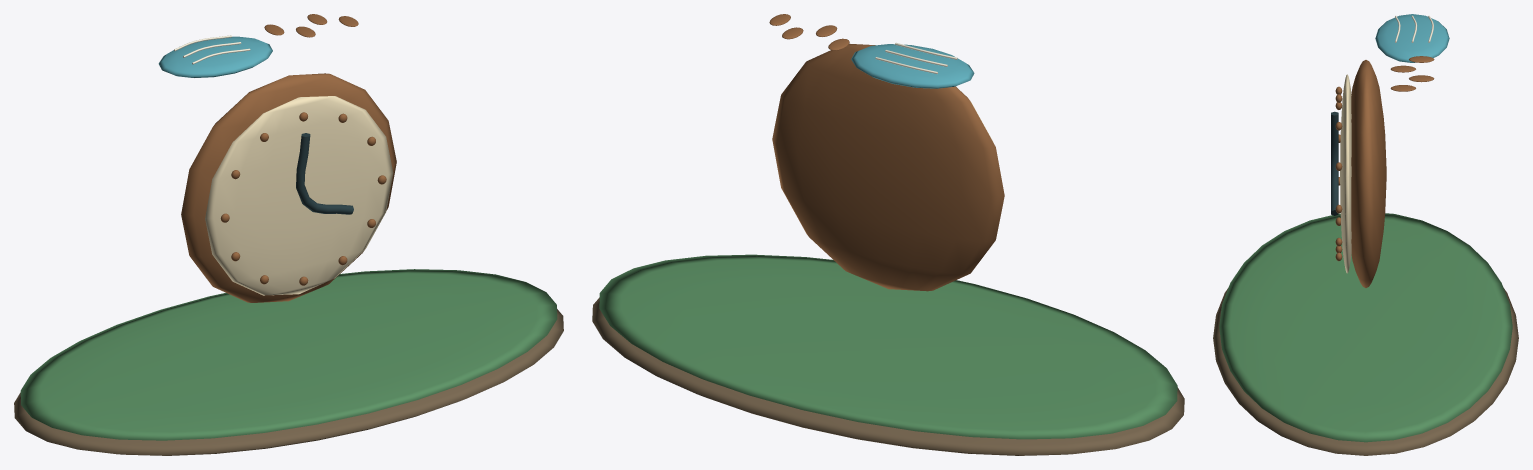
The model's file is complete-third-timed-wading-trip.glb.
3 views of the same model, side by side, from view 1: azimuth 30°, elevation 25°; view 2: azimuth 150°, elevation 25°; view 3: azimuth 270°, elevation 25° (orthographic). The views are drawn at different scales.
Visible parts, largest first — view 1: complete-third-timed-wading-trip_surface_01, complete-third-timed-wading-trip_surface_03, complete-third-timed-wading-trip_surface_02, complete-third-timed-wading-trip_surface_00, complete-third-timed-wading-trip_surface_05, complete-third-timed-wading-trip_surface_04; view 2: complete-third-timed-wading-trip_surface_01, complete-third-timed-wading-trip_surface_02, complete-third-timed-wading-trip_surface_00, complete-third-timed-wading-trip_surface_05; view 3: complete-third-timed-wading-trip_surface_01, complete-third-timed-wading-trip_surface_02, complete-third-timed-wading-trip_surface_00, complete-third-timed-wading-trip_surface_05, complete-third-timed-wading-trip_surface_03, complete-third-timed-wading-trip_surface_04.
Part boxes in pixels (x1=…): complete-third-timed-wading-trip_surface_01: x1=20, y1=269, x2=557, y2=440; complete-third-timed-wading-trip_surface_03: x1=205, y1=96, x2=393, y2=295; complete-third-timed-wading-trip_surface_02: x1=181, y1=14, x2=396, y2=302; complete-third-timed-wading-trip_surface_00: x1=14, y1=309, x2=563, y2=455; complete-third-timed-wading-trip_surface_05: x1=158, y1=36, x2=272, y2=77; complete-third-timed-wading-trip_surface_04: x1=296, y1=133, x2=353, y2=214; complete-third-timed-wading-trip_surface_01: x1=599, y1=254, x2=1177, y2=439; complete-third-timed-wading-trip_surface_02: x1=769, y1=14, x2=1004, y2=291; complete-third-timed-wading-trip_surface_00: x1=592, y1=297, x2=1184, y2=455; complete-third-timed-wading-trip_surface_05: x1=851, y1=44, x2=974, y2=88; complete-third-timed-wading-trip_surface_01: x1=1219, y1=213, x2=1512, y2=442; complete-third-timed-wading-trip_surface_02: x1=1335, y1=56, x2=1434, y2=287; complete-third-timed-wading-trip_surface_00: x1=1213, y1=288, x2=1518, y2=455; complete-third-timed-wading-trip_surface_05: x1=1375, y1=14, x2=1449, y2=62; complete-third-timed-wading-trip_surface_03: x1=1340, y1=74, x2=1351, y2=273; complete-third-timed-wading-trip_surface_04: x1=1331, y1=111, x2=1338, y2=215.
Size of the model in its own units: 4.56 by 2.72 by 2.5.
